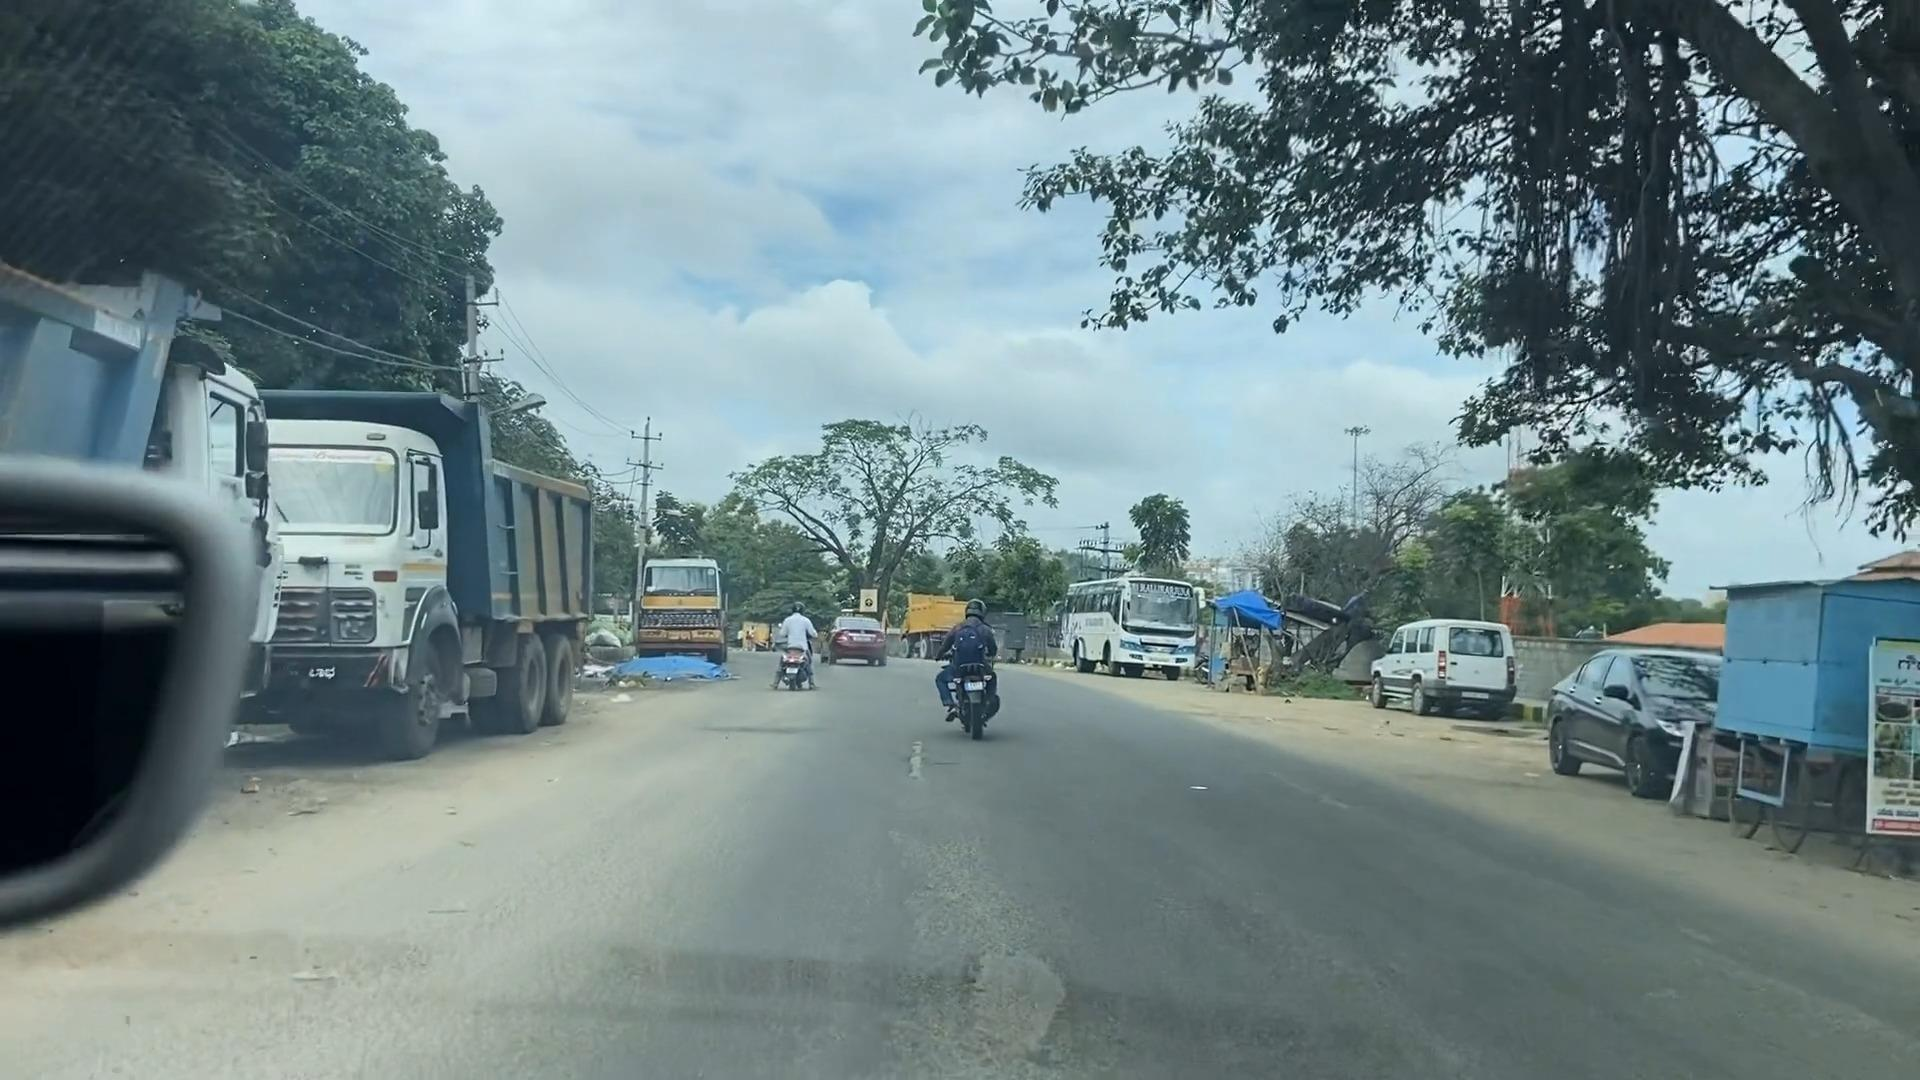HMV: (0, 232, 339, 890), (265, 382, 618, 770), (1055, 550, 1213, 694), (618, 506, 731, 667)
LMV: (895, 512, 1044, 796), (1366, 543, 1531, 745), (742, 562, 831, 709), (811, 559, 918, 671)
RoadDamages: (952, 890, 1077, 1068), (869, 688, 947, 798)
